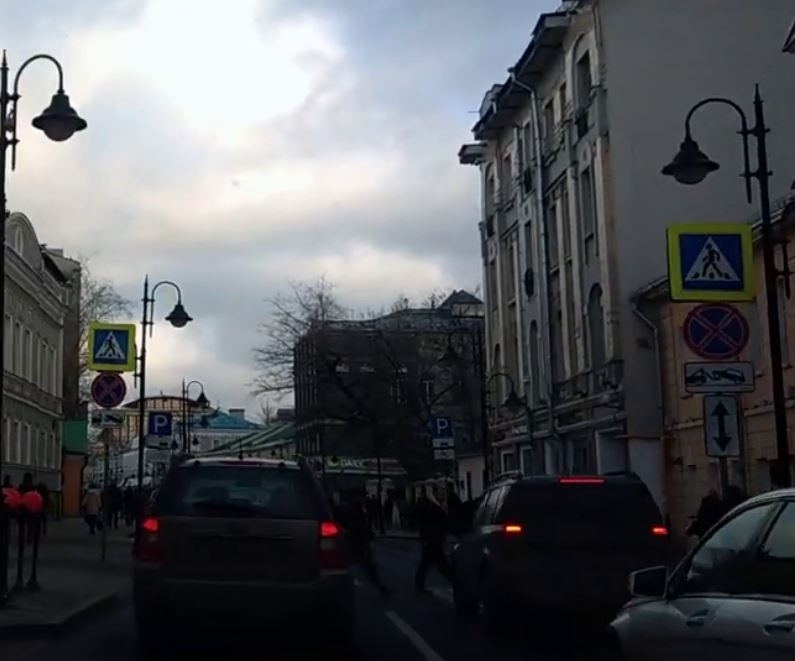Yaya Gecidi: (680, 234, 743, 290), (93, 326, 130, 360)
